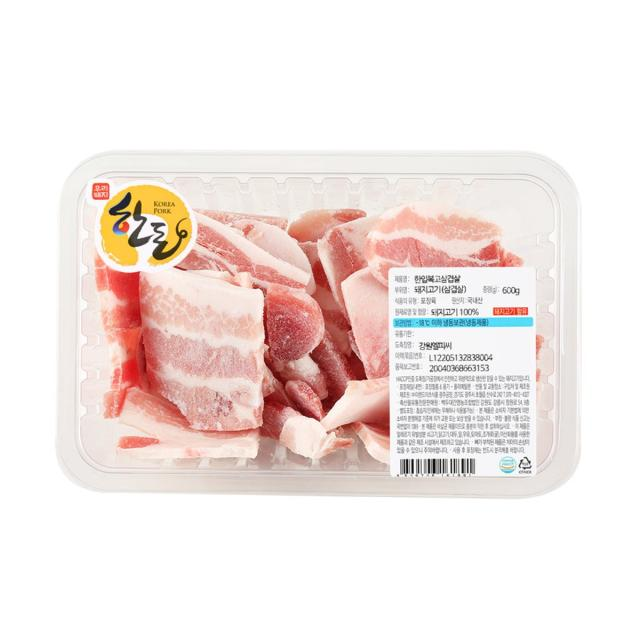pork: (51, 120, 592, 507)
